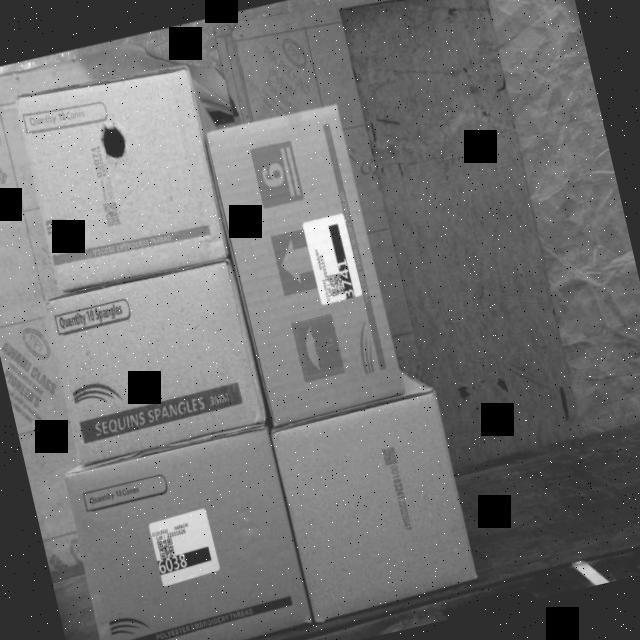box: (204, 98, 404, 421), (62, 426, 315, 640), (17, 59, 230, 293), (45, 260, 267, 462), (276, 397, 475, 617)
